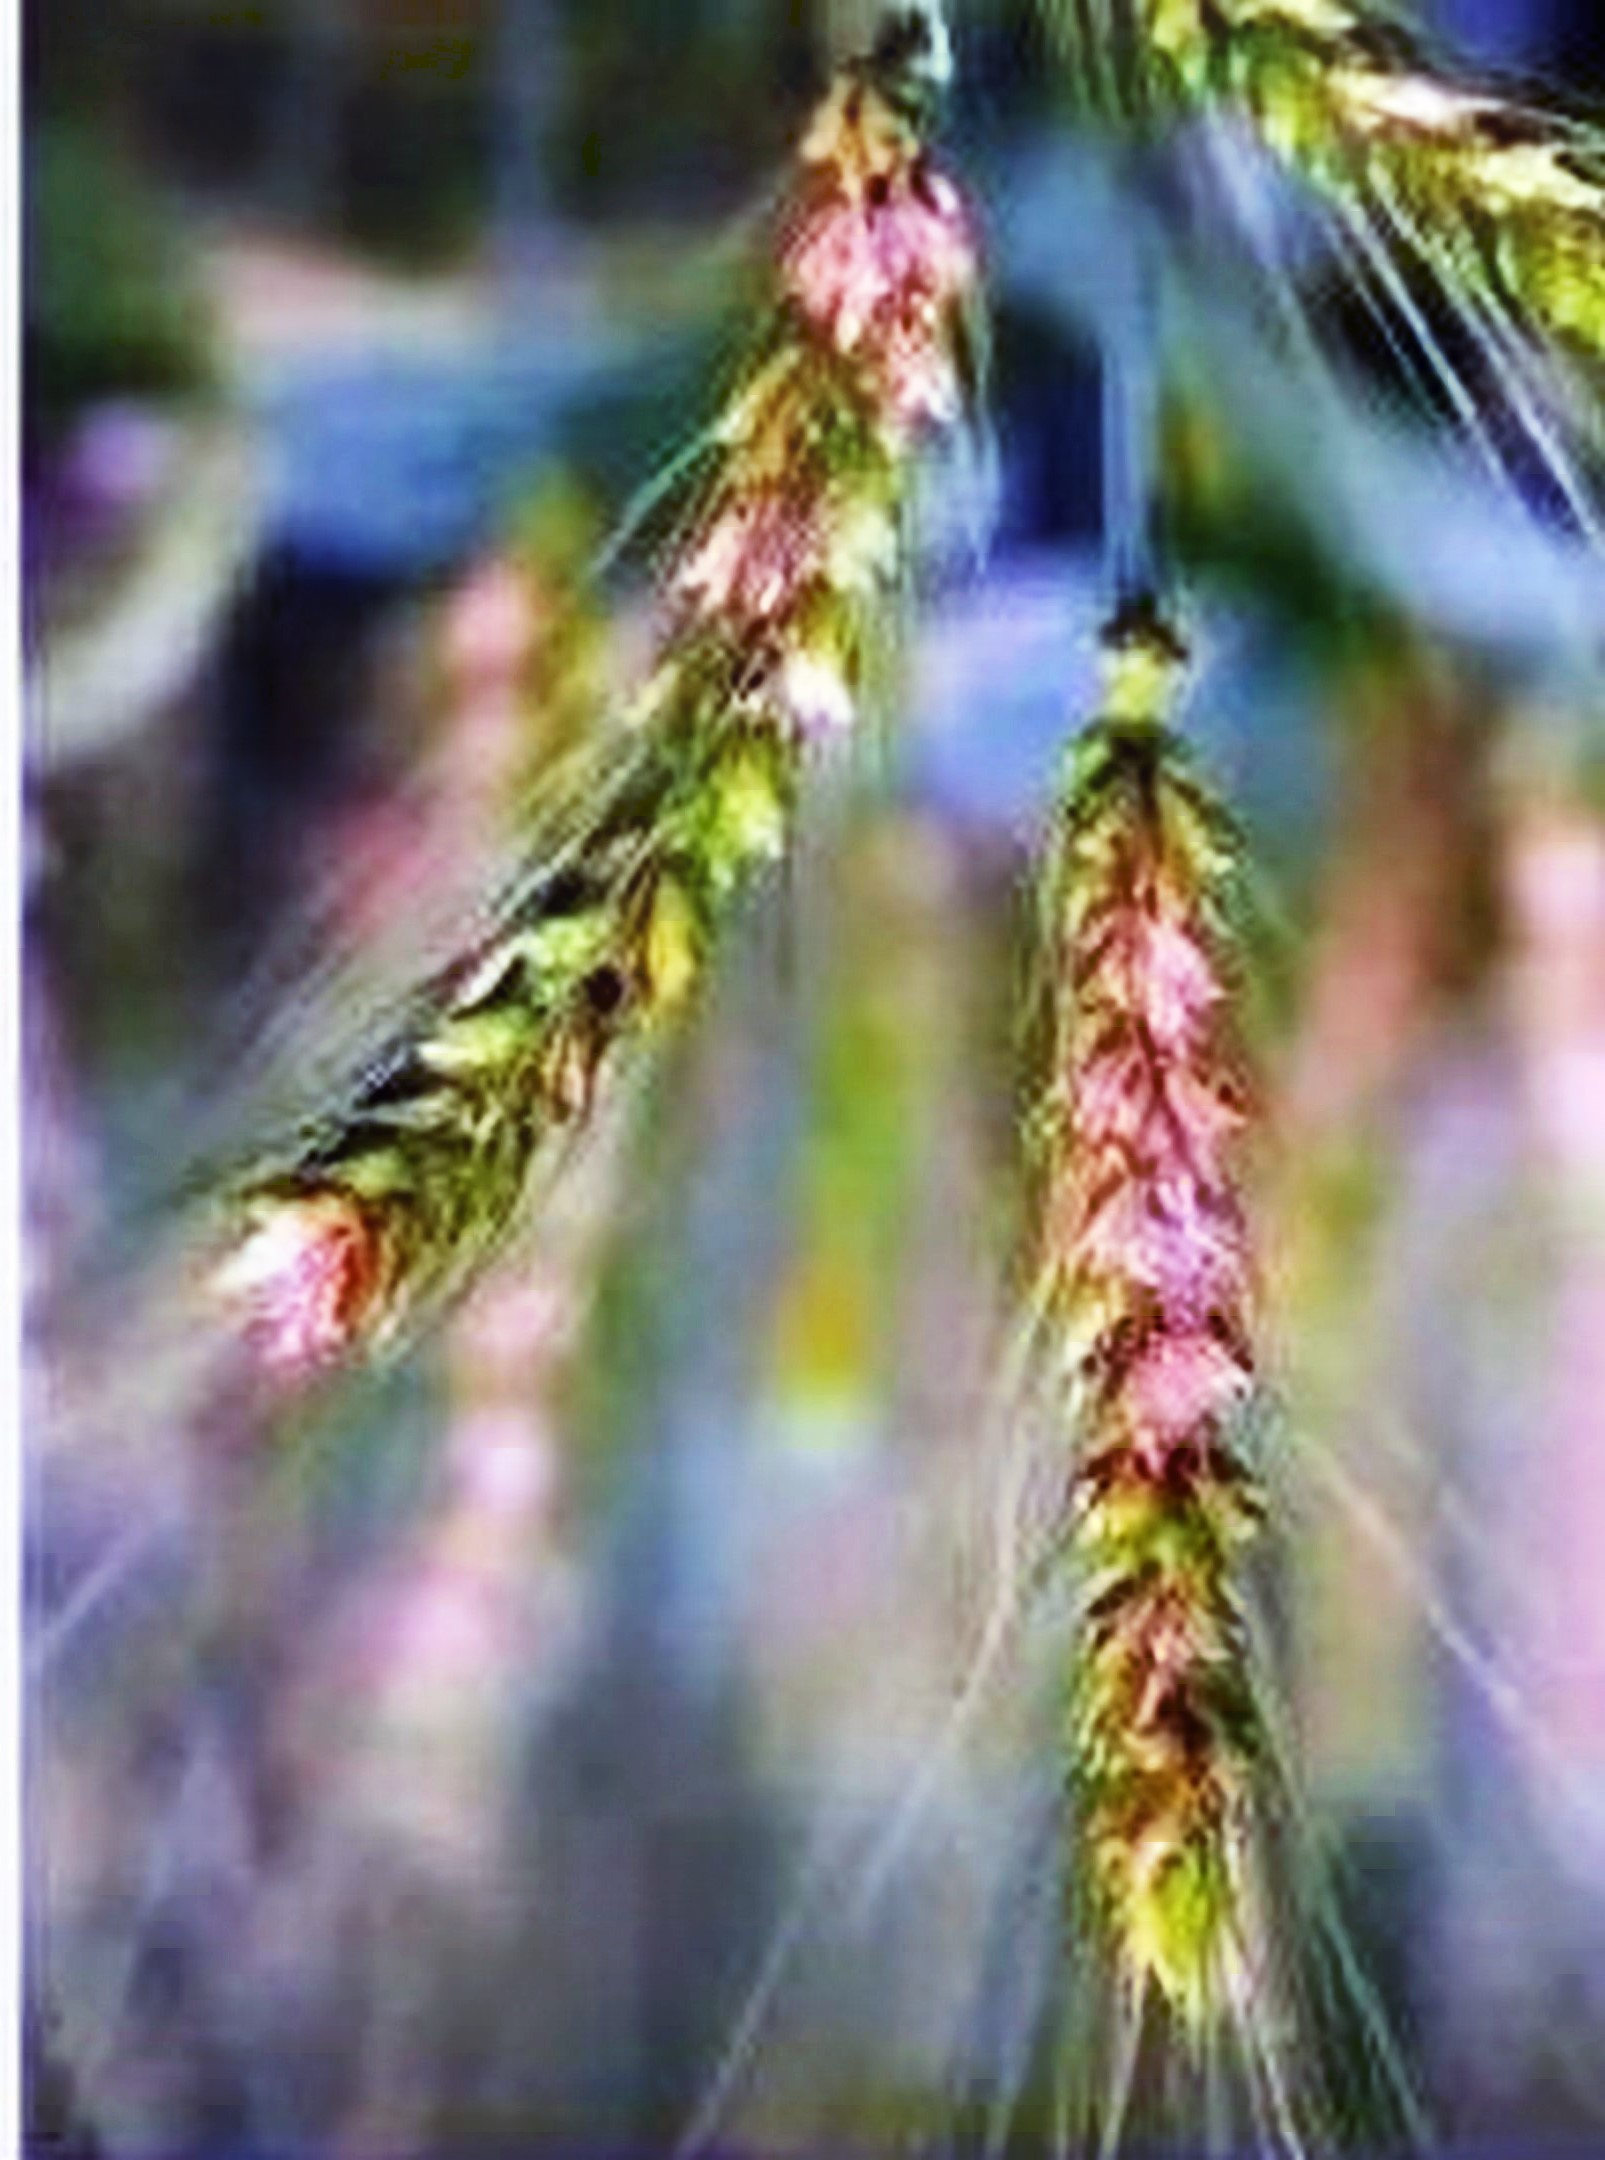Wheat scab: (971, 536, 1335, 2049)
